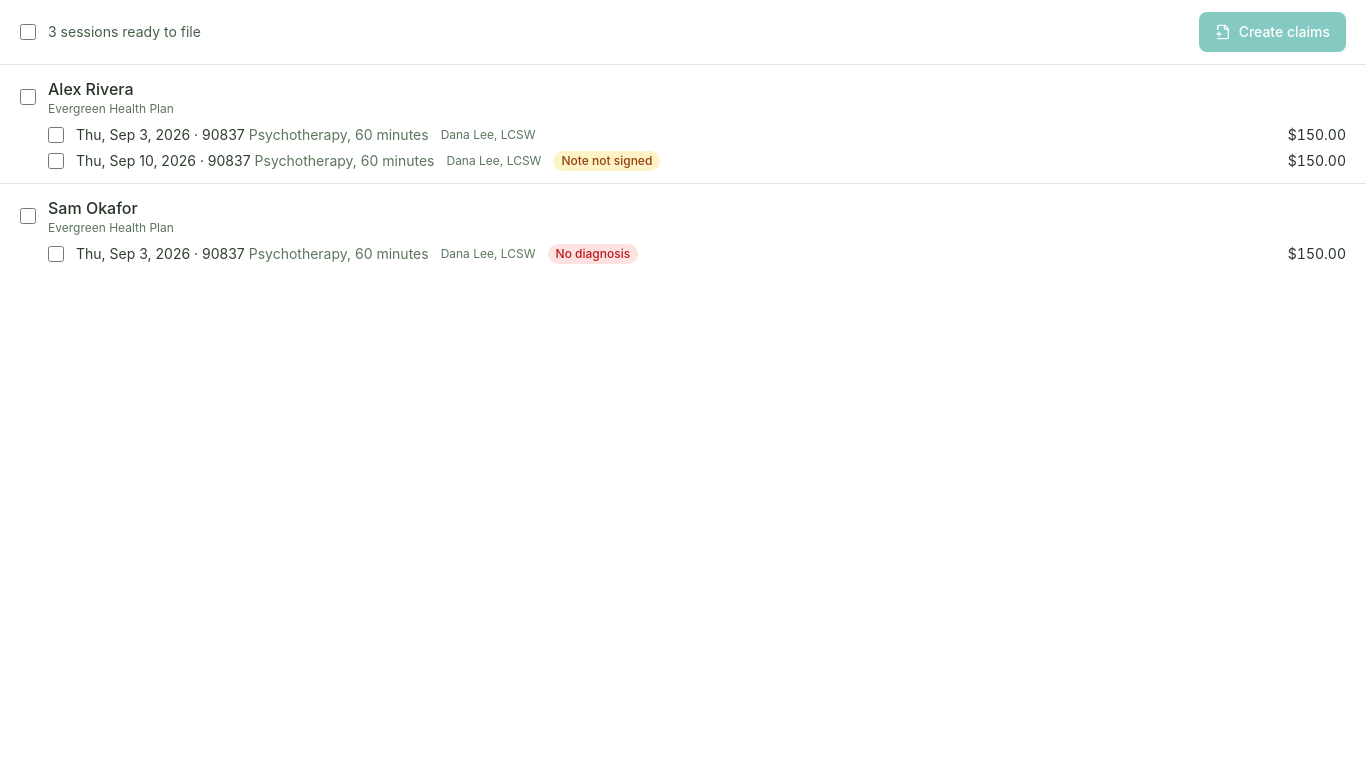
it: ready to file › confirms before creating claims for sessions that need attention, one claim request per client
The image size is (1366, 768).
Click the checkbox named "Select all sessions" at (28, 32), box [20, 24, 36, 40]
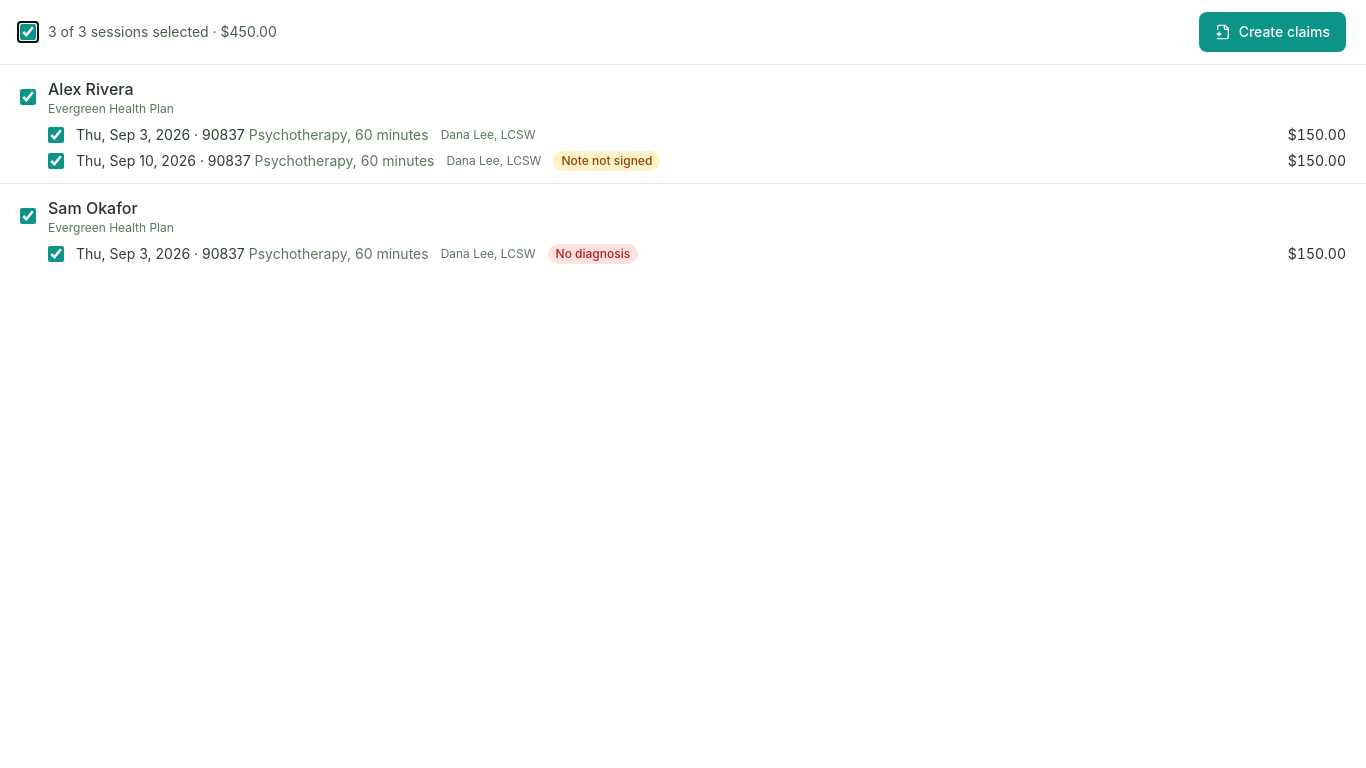
Click the button "Create claims" at (1272, 32), box [1199, 12, 1346, 52]
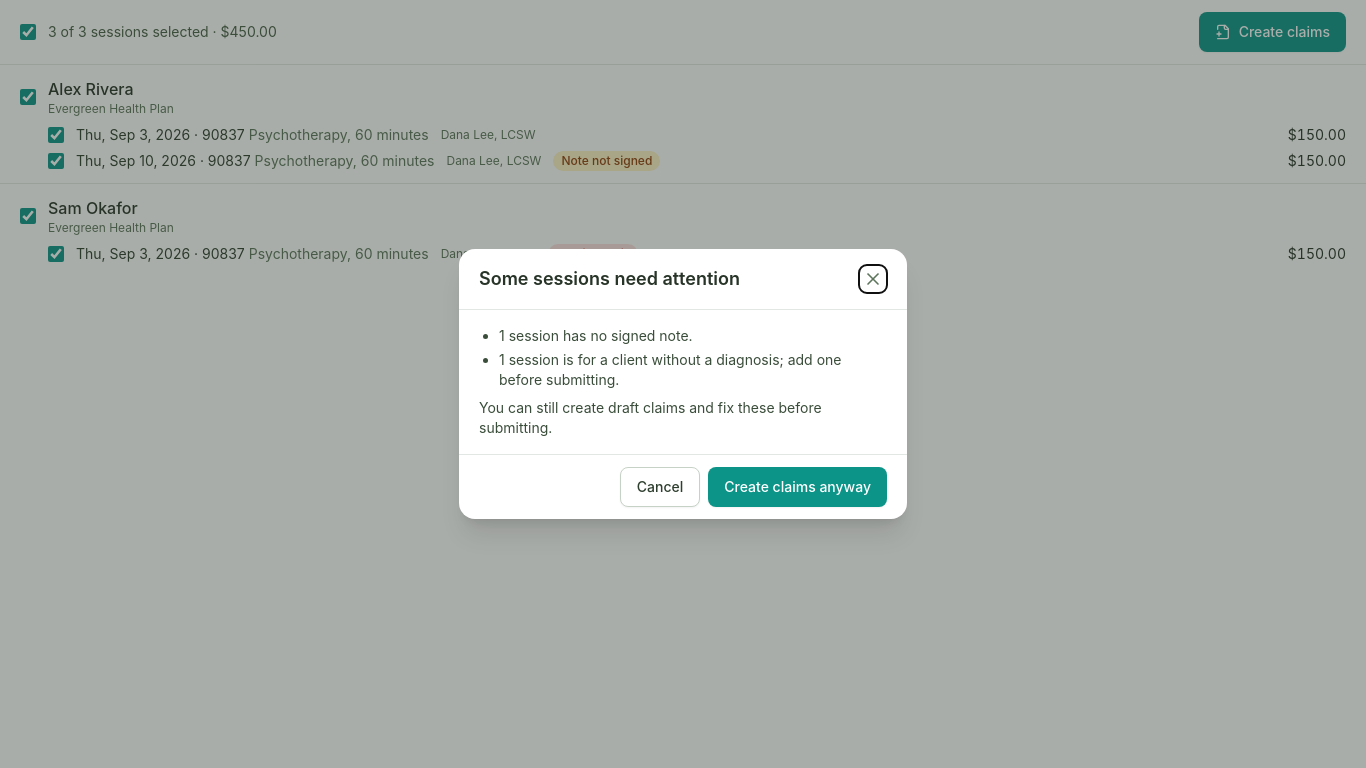
Expected: the list item "1 session has no signed note." is shown, [499, 327, 693, 344]
Expected: the list item "1 session is for a client without a diagnosis" is shown, [499, 351, 842, 388]
Click the button "Create claims anyway" at (798, 487), box [708, 467, 887, 507]
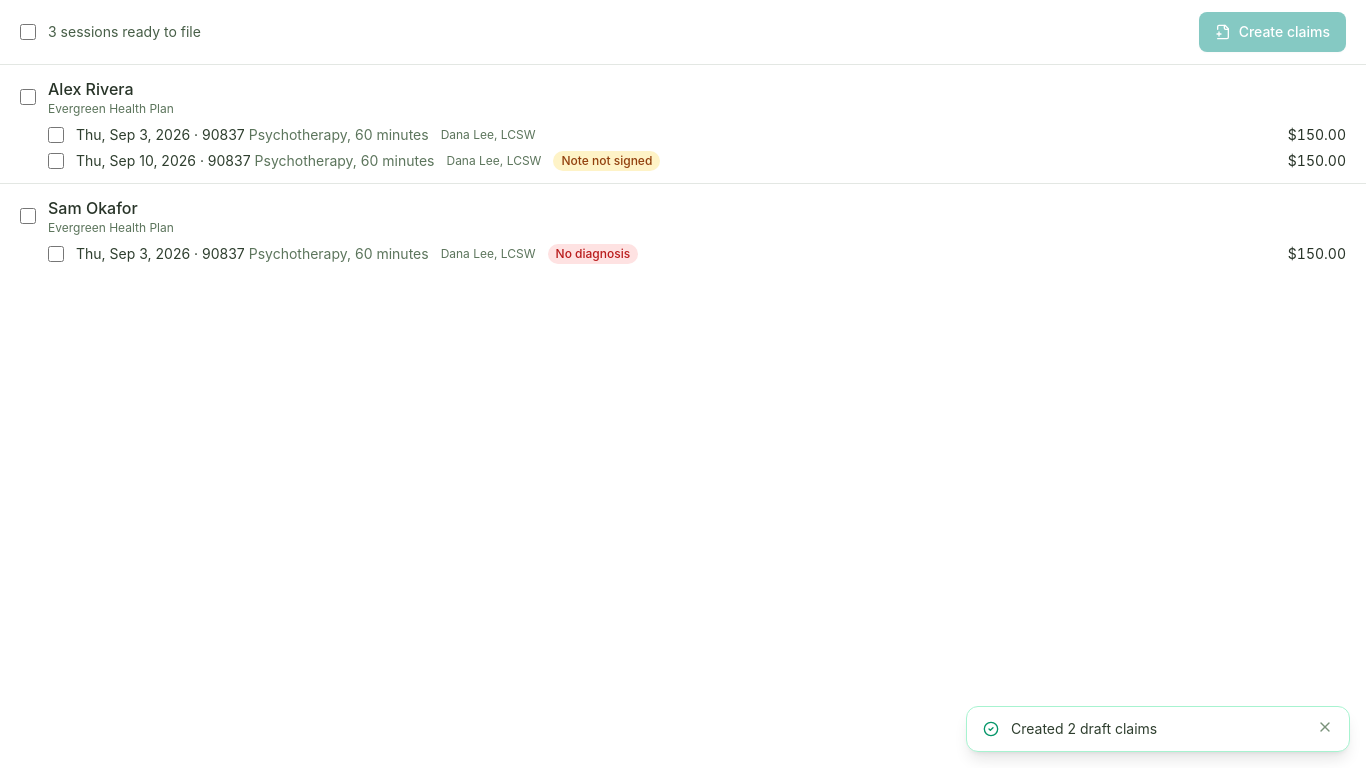
Expected: the text "Created 2 draft claims" is shown, [1011, 720, 1157, 737]
